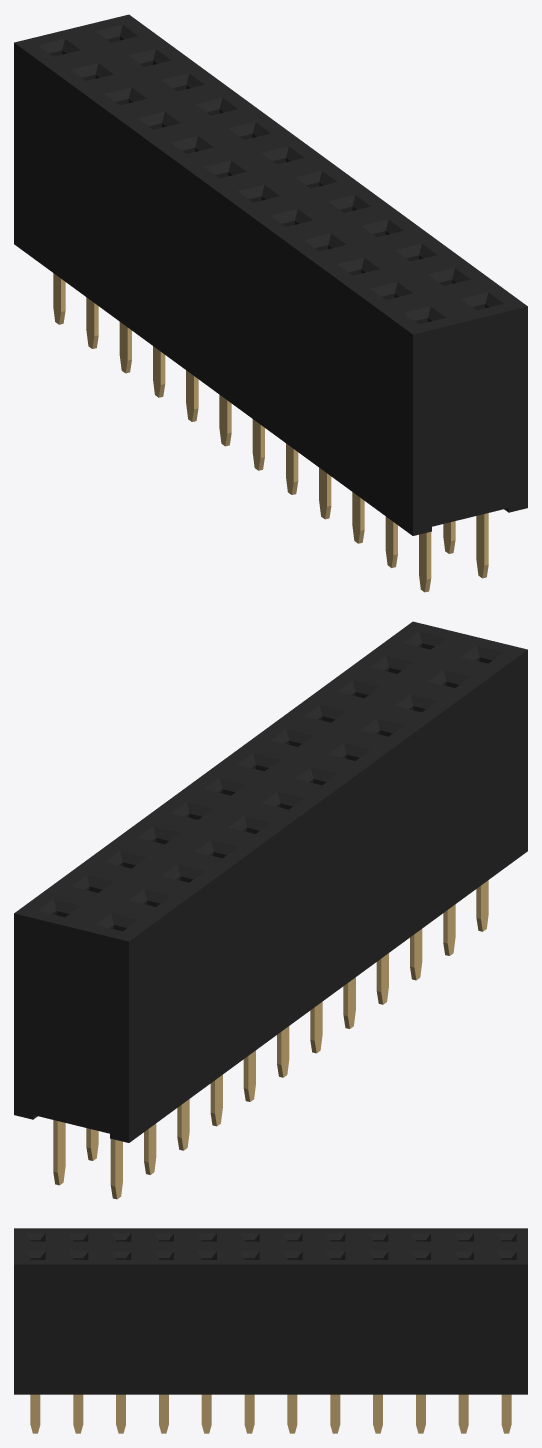
The model's file is kc-pinsocket_2x12_p2.54mm_vertical.glb.
3 views of the same model, one above another, from view 1: azimuth 30°, elevation 25°; view 2: azimuth 150°, elevation 25°; view 3: azimuth 270°, elevation 25° (orthographic). The views are drawn at different scales.
Visible parts, largest first — view 1: 0_0_0_0, 0.75_0.5_0.25_0.9; view 2: 0_0_0_0, 0.75_0.5_0.25_0.9; view 3: 0_0_0_0, 0.75_0.5_0.25_0.9.
Part boxes in pixels (<box>): 0_0_0_0: <box>14,14,527,535</box>; 0.75_0.5_0.25_0.9: <box>53,273,488,592</box>; 0_0_0_0: <box>14,621,527,1142</box>; 0.75_0.5_0.25_0.9: <box>53,880,488,1199</box>; 0_0_0_0: <box>14,1228,527,1394</box>; 0.75_0.5_0.25_0.9: <box>30,1394,511,1433</box>.
Size of the model in its own units: 0.5079 by 1.16 by 3.05.
